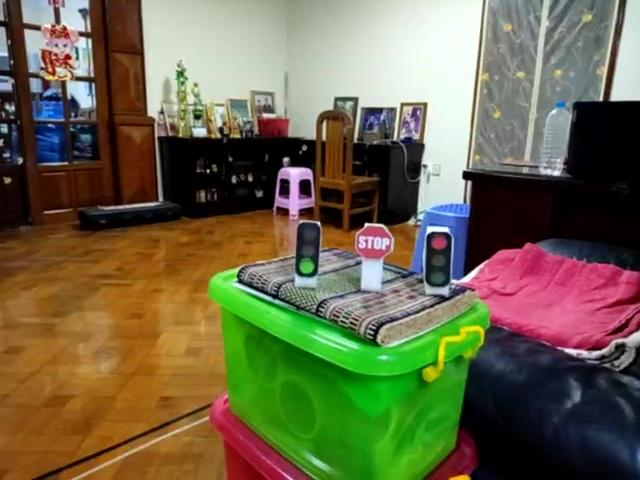Green Traffic Light: (293, 220, 323, 280)
Red Traffic Light: (423, 227, 454, 289)
Stop Sign: (354, 222, 396, 264)
